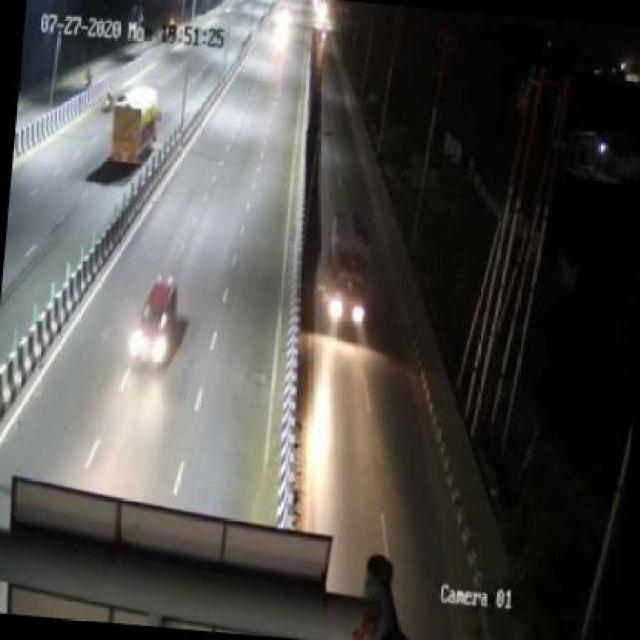car: (128, 272, 183, 370)
